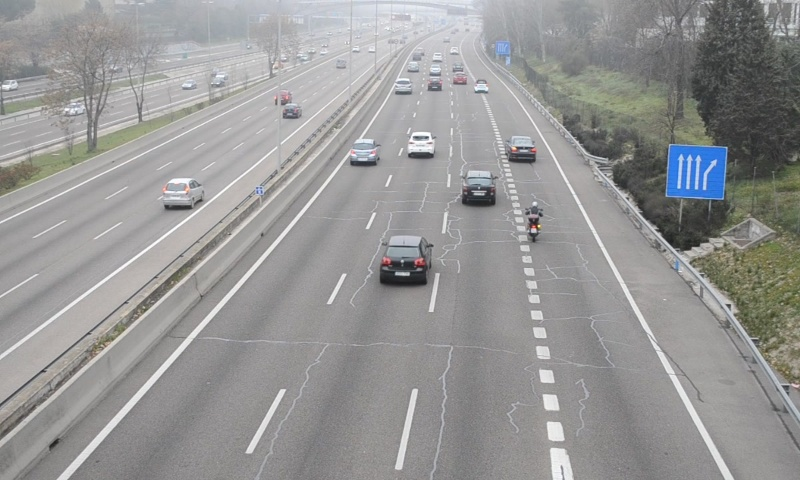car: (379, 236, 432, 286), (462, 171, 497, 204), (505, 135, 537, 163), (350, 139, 380, 165), (408, 131, 436, 157), (394, 78, 414, 95), (474, 78, 488, 94)
motorcycle: (524, 200, 544, 244)
